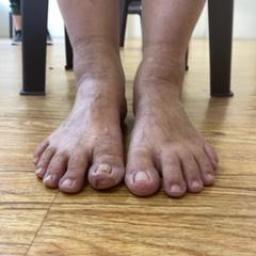Front View -Both Feet-: (18, 38, 239, 216)
